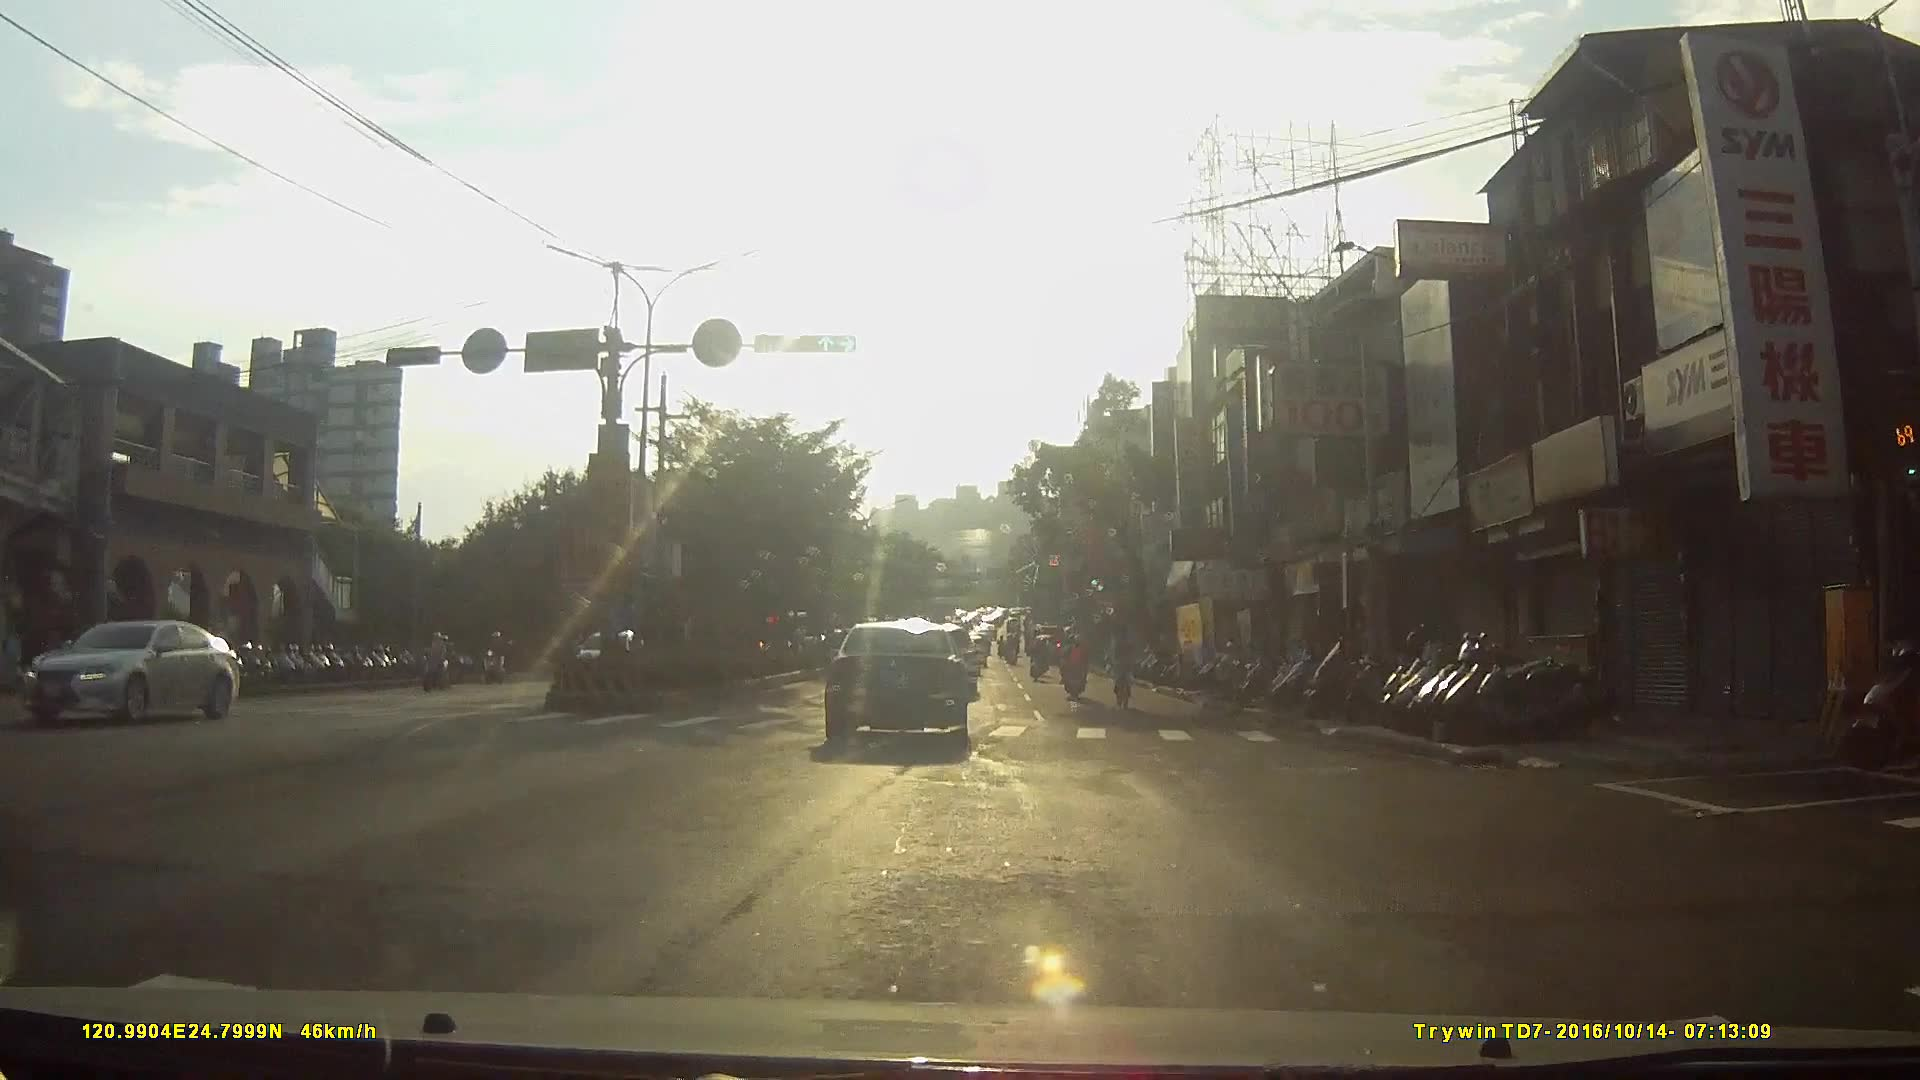rider: (1108, 624, 1136, 713), (1062, 634, 1089, 703), (421, 631, 450, 691), (481, 629, 510, 686), (1028, 632, 1053, 685)
vehicle: (35, 615, 234, 732), (829, 608, 987, 750)
